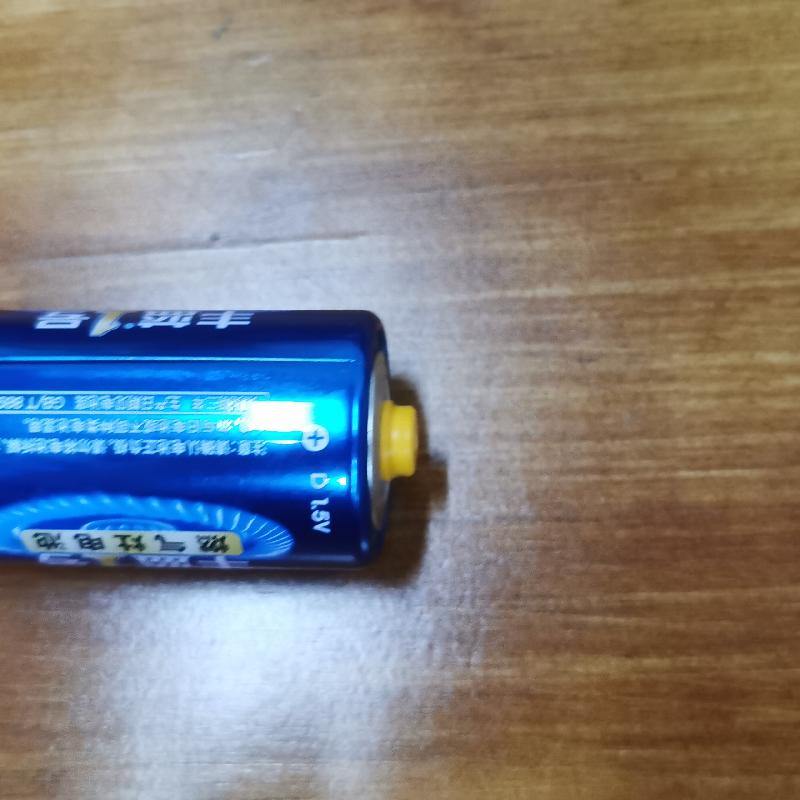battery: (1, 299, 429, 582)
